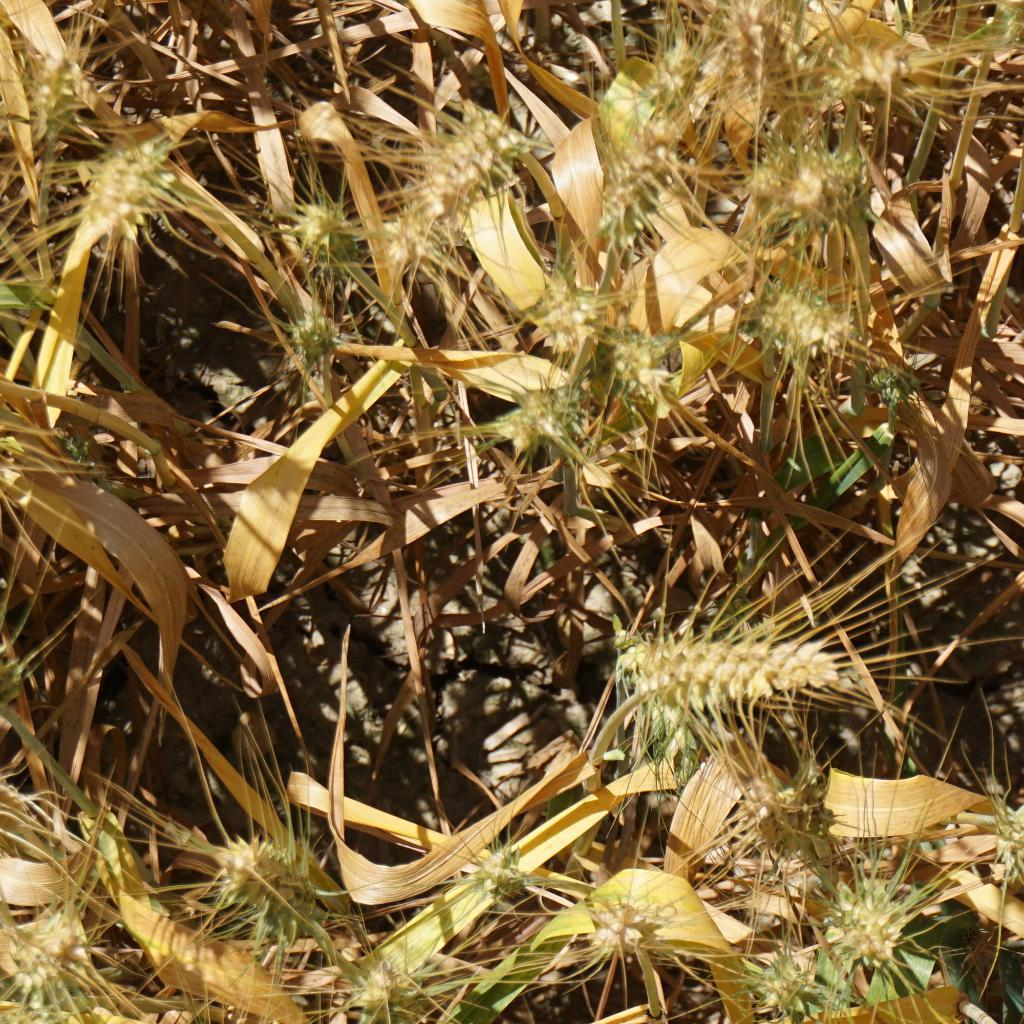0-0: (621, 631, 850, 692), (416, 112, 537, 204), (735, 271, 848, 358), (73, 137, 170, 231), (19, 36, 96, 147), (592, 149, 672, 254), (832, 870, 920, 965), (230, 835, 324, 923), (22, 422, 122, 504), (611, 640, 694, 738), (500, 374, 594, 456), (793, 24, 901, 93), (715, 0, 795, 91), (640, 35, 705, 133), (528, 263, 611, 338), (274, 196, 369, 261), (338, 947, 419, 1022), (746, 773, 828, 841), (611, 329, 684, 405), (285, 303, 362, 371), (0, 707, 37, 848), (749, 938, 822, 1009), (476, 843, 553, 905), (810, 131, 874, 203), (15, 917, 75, 991), (0, 587, 30, 733), (587, 900, 659, 958), (728, 144, 790, 211), (992, 799, 1024, 907), (384, 195, 436, 261), (857, 361, 918, 412), (0, 1007, 64, 1024), (1005, 0, 1024, 42)
